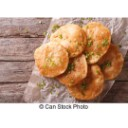poori: (67, 63, 104, 100), (33, 42, 69, 77), (50, 23, 87, 57), (83, 22, 112, 62), (56, 50, 87, 85), (99, 41, 124, 81)
